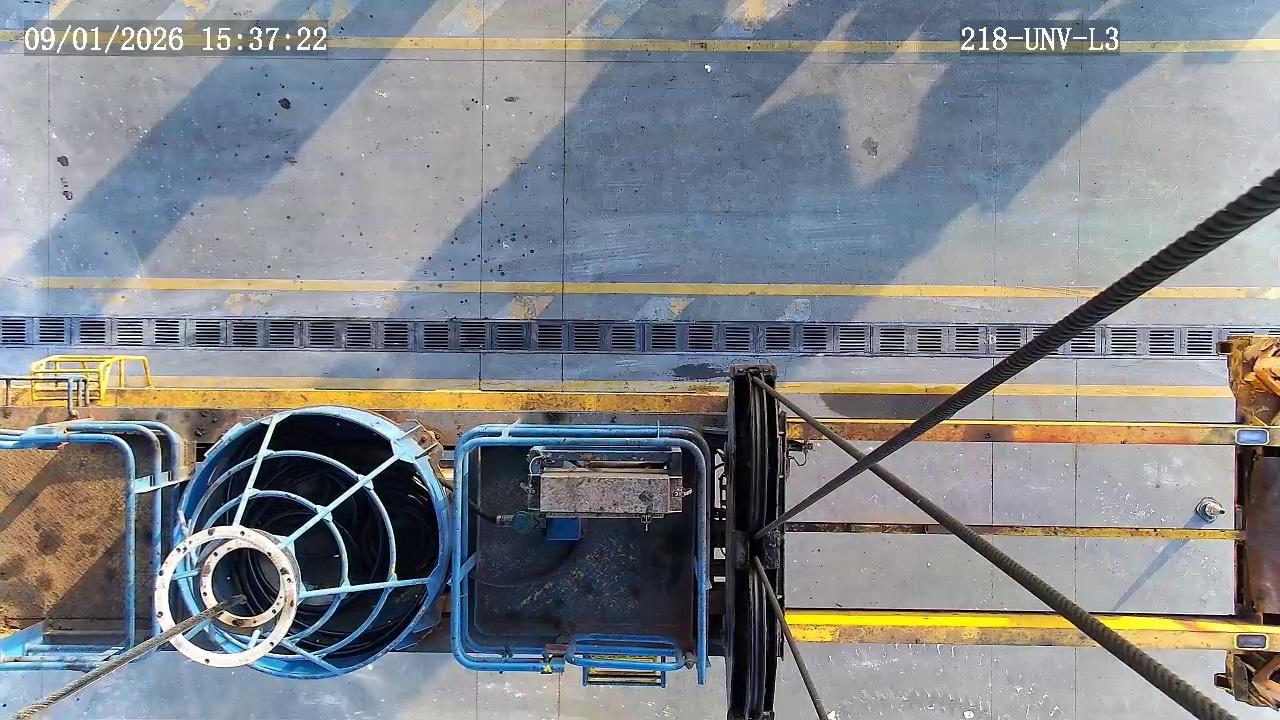right: (151, 524, 296, 665)
